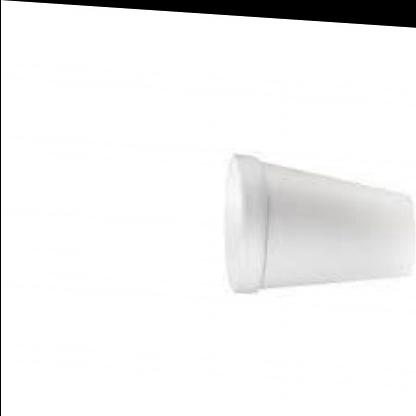trash: (225, 154, 413, 291)
